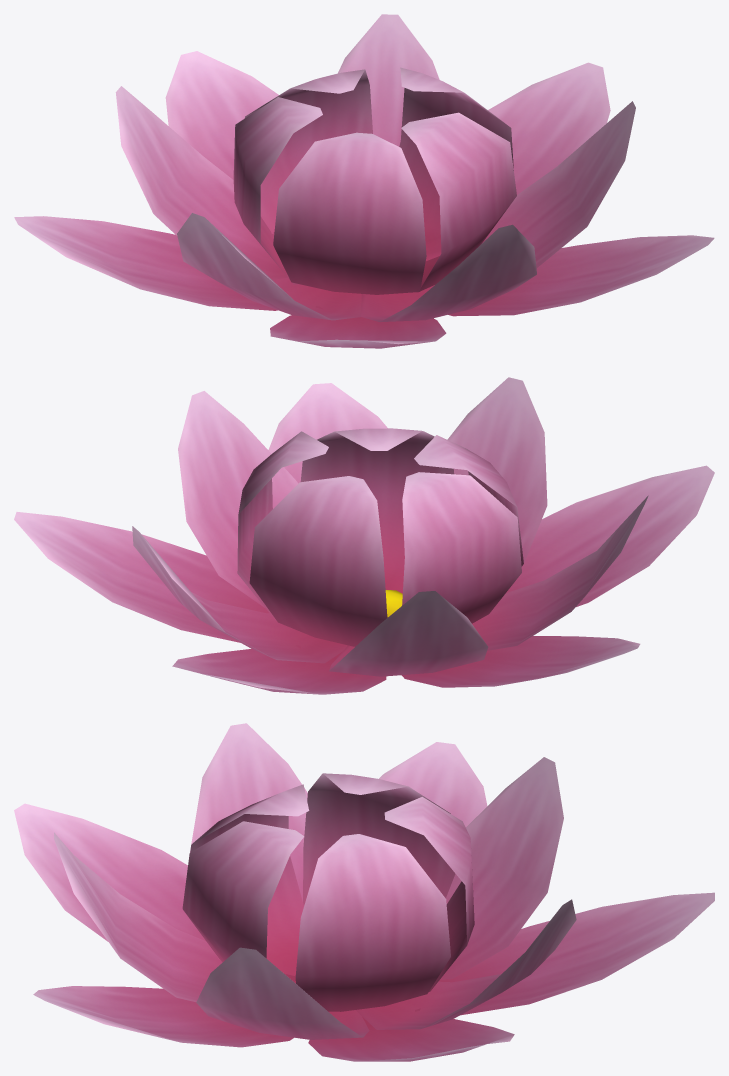
Rendered from SM_Water_lily.FBX.
3 views of the same model, one above another, from view 1: azimuth 30°, elevation 25°; view 2: azimuth 150°, elevation 25°; view 3: azimuth 270°, elevation 25° (orthographic). The views are drawn at different scales.
Parts seen in each view (by area): view 1: Water lily flower; view 2: Water lily flower; view 3: Water lily flower.
Boxes of the visible parts, x1,y1,x2,y2 form: Water lily flower: [14, 14, 714, 348]; Water lily flower: [14, 377, 714, 694]; Water lily flower: [14, 723, 714, 1061].
Bounding box in the file's own units: 48.47 × 13.72 × 47.01.
